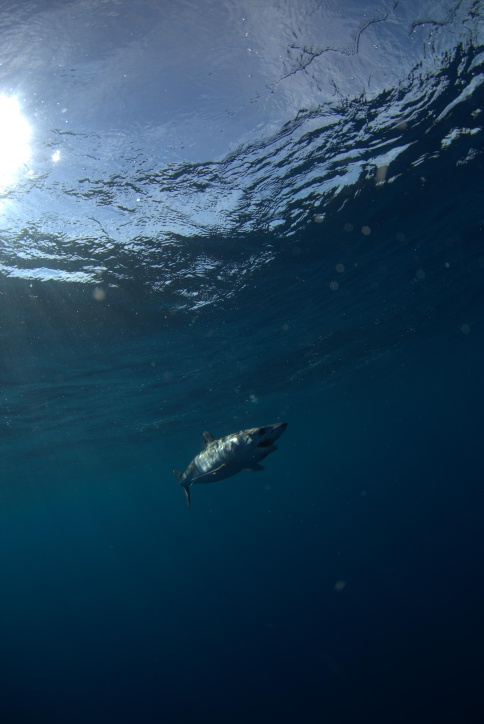Mako: (152, 413, 310, 518)
